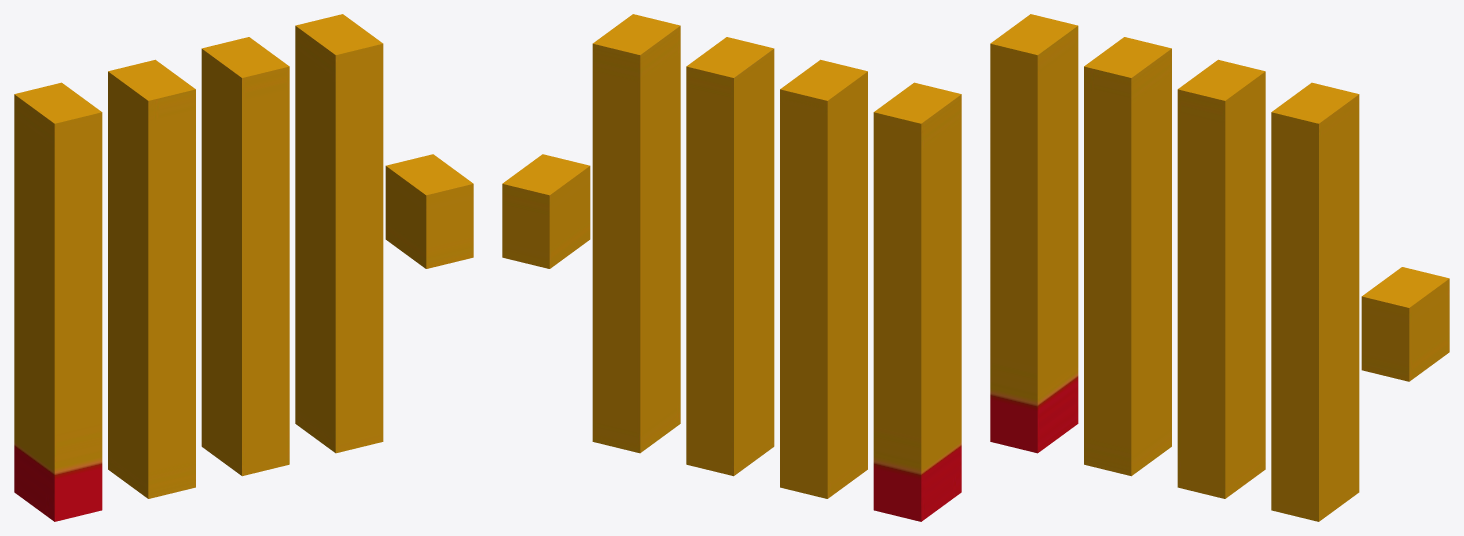
Rendered from clickhouse.gltf.
The picture shows the model from 3 angles, left to right: view 1: azimuth 30°, elevation 25°; view 2: azimuth 150°, elevation 25°; view 3: azimuth 330°, elevation 25°; orthographic projection.
Visible parts, largest first — view 1: Cube.002; view 2: Cube.002; view 3: Cube.002.
Part boxes in pixels (<box>): Cube.002: <box>14,14,473,521</box>; Cube.002: <box>502,14,961,521</box>; Cube.002: <box>990,14,1449,521</box>.
Size of the model in its own units: 22.07 by 20.04 by 3.69.
1 material, 1 textured.
